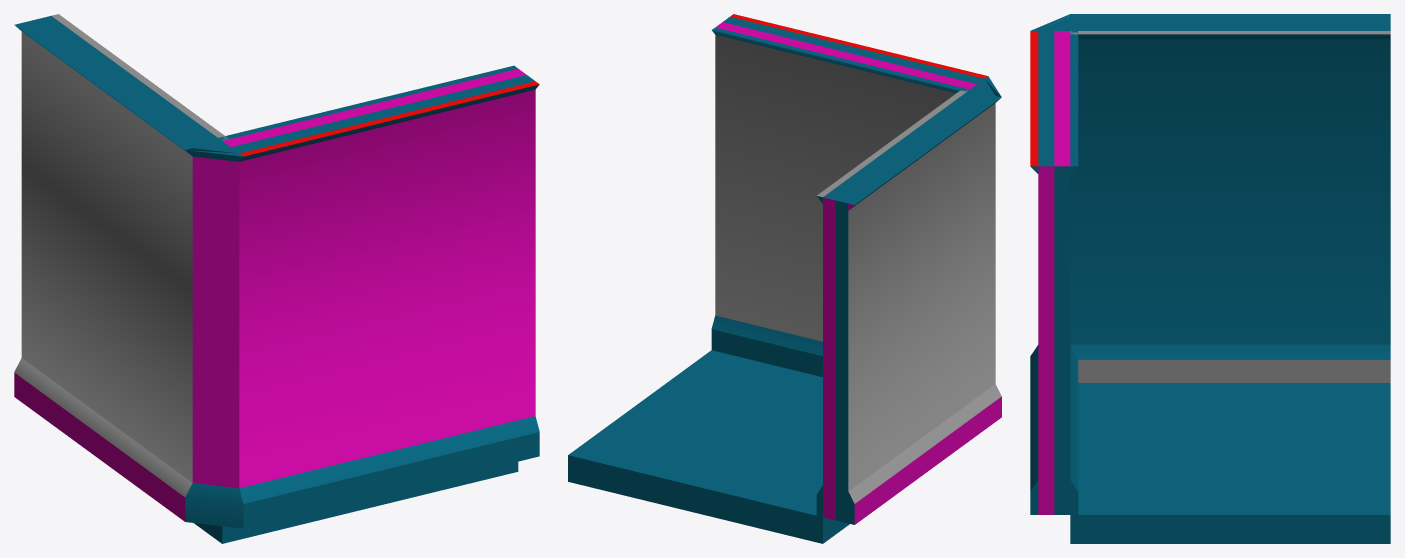
The picture shows the model from 3 angles, left to right: view 1: azimuth 30°, elevation 25°; view 2: azimuth 150°, elevation 25°; view 3: azimuth 270°, elevation 25°; orthographic projection. The views are drawn at different scales.
Visible parts, largest first — view 1: ModularCorner; view 2: ModularCorner; view 3: ModularCorner.
Boxes of the visible parts, x1,y1,x2,y2 form: ModularCorner: (14,14,539,543); ModularCorner: (568,14,1001,543); ModularCorner: (1030,14,1390,543).
Bounding box in the file's own units: 113 × 130 × 113.
